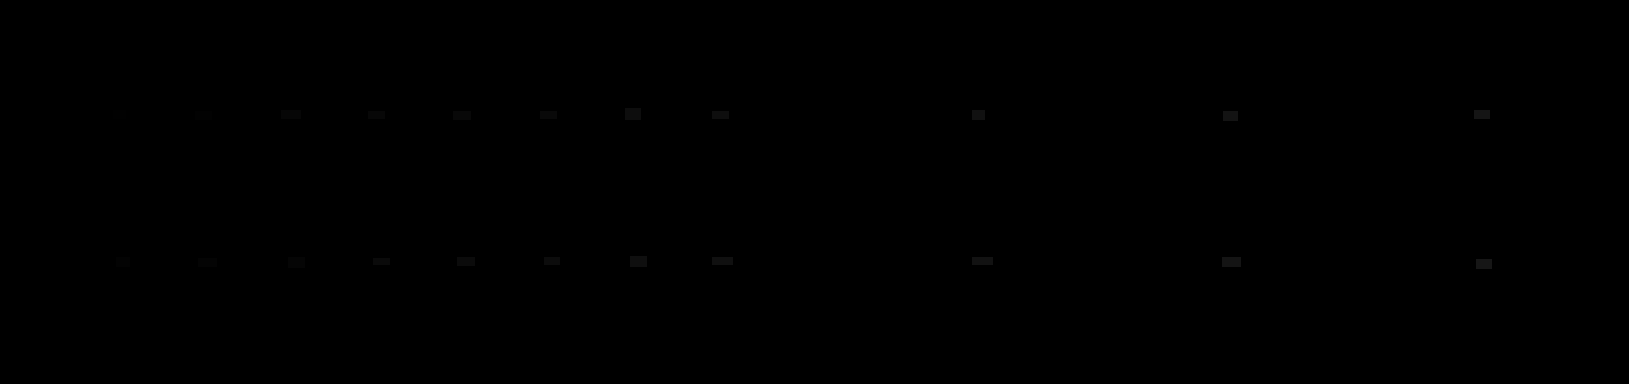light: (281, 110, 301, 119), (625, 108, 641, 120), (1222, 257, 1241, 267), (288, 257, 305, 268), (630, 256, 647, 267), (453, 111, 471, 120), (1223, 111, 1238, 121), (712, 257, 733, 265), (195, 111, 212, 120), (198, 258, 217, 267), (972, 257, 993, 265), (368, 111, 385, 119), (457, 257, 475, 266), (712, 111, 729, 119), (1474, 110, 1490, 119), (1476, 259, 1492, 269), (540, 111, 557, 119), (972, 110, 985, 120), (116, 257, 130, 267), (113, 110, 126, 119), (544, 257, 560, 265), (373, 258, 390, 265)
